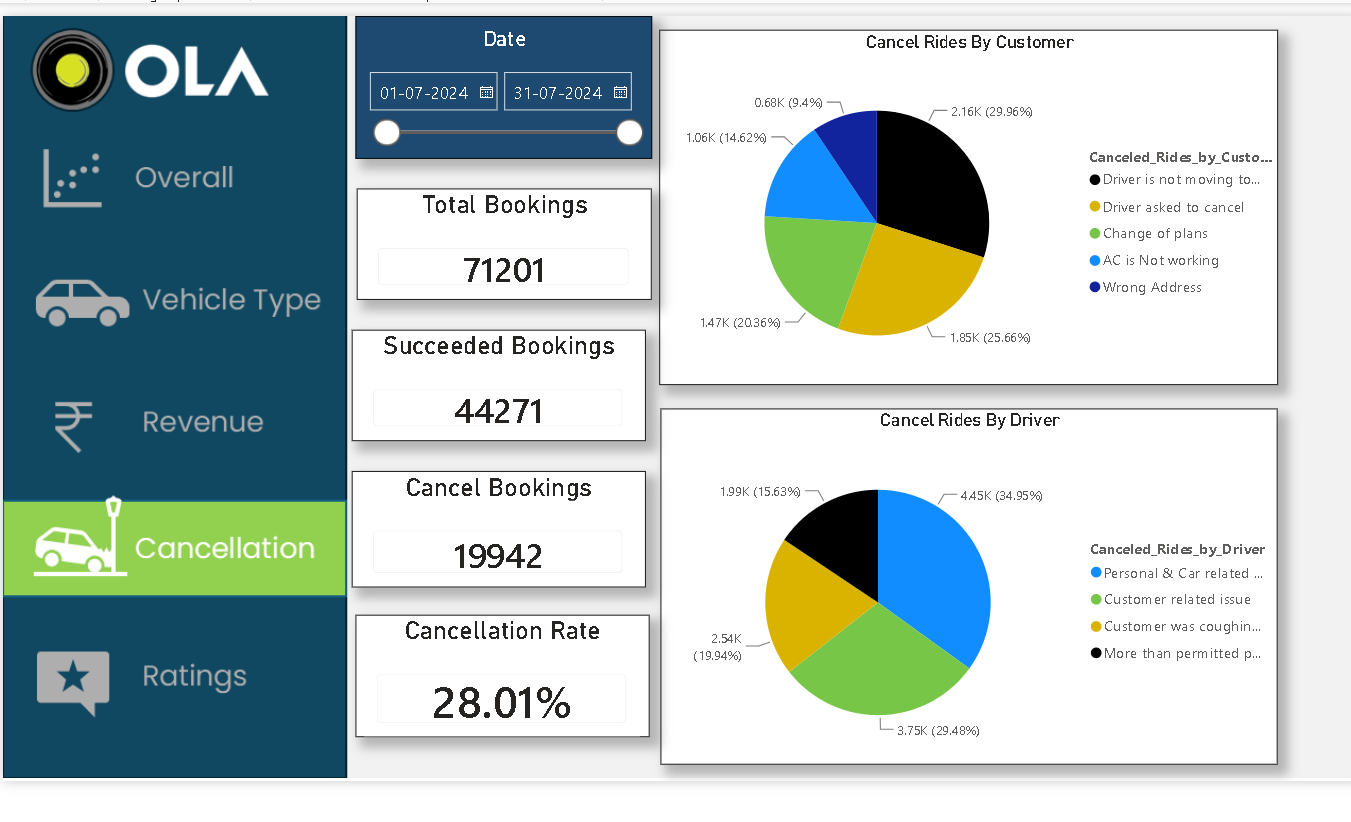

This screenshot's page, from the dashboard's own definition file:
{"tool":"powerbi","page":{"name":"Cancellation","canvas":[1280,720],"ordinal":3},"visuals":[{"type":"pieChart","title":"Cancel Rides By Customer","fields":{"Category":["bookings_cleaned.Canceled_Rides_by_Customer"],"Y":["CountNonNull(bookings_cleaned.Canceled_Rides_by_Customer)"]},"box":[617.6,12.9,582.4,334.1],"z":0},{"type":"pieChart","title":"Cancel Rides By Driver","fields":{"Y":["CountNonNull(bookings_cleaned.Canceled_Rides_by_Driver)"],"Category":["bookings_cleaned.Canceled_Rides_by_Driver"]},"box":[618.8,369.4,581.2,335.3],"z":1000},{"type":"cardVisual","title":"Total Bookings","fields":{"Data":["CountNonNull(bookings_cleaned.Booking_ID)"]},"box":[332.9,162.4,277.6,104.7],"z":2000},{"type":"cardVisual","title":"Succeeded Bookings","fields":{"Data":["CountNonNull(bookings_cleaned.Booking_ID)"]},"box":[328.2,295.3,276.5,104.7],"z":3000},{"type":"cardVisual","title":"Cancel Bookings","fields":{"Data":["CountNonNull(bookings_cleaned.Booking_ID)"]},"box":[328.2,428.2,276.5,109.4],"z":4000},{"type":"cardVisual","title":"Cancellation Rate","fields":{"Data":["bookings_cleaned.CanceledPercentage"]},"box":[331.8,563.5,276.5,115.3],"z":5000},{"type":"slicer","title":"Date","fields":{"Values":["bookings_cleaned.Date"]},"box":[331.8,0,279.5,134.6],"z":6000},{"type":"actionButton","box":[0,105,324.3,107],"z":6001},{"type":"actionButton","box":[0,195.3,324.3,107],"z":6002},{"type":"actionButton","box":[0,329.4,324.3,107],"z":6003},{"type":"actionButton","box":[0,580.9,324.3,107],"z":6004}]}

Visuals, with their boxes on the page's 1280x720 design canvas (x1, y1, x2, y2). These are canvas units, not pixel positions in the 1351x822 screenshot, which may show the page scaled, cropped or inside an application window:
"Cancel Rides By Customer" pieChart: pyautogui.locateOnScreen(618, 13, 1200, 347)
"Cancel Rides By Driver" pieChart: pyautogui.locateOnScreen(619, 369, 1200, 705)
"Total Bookings" cardVisual: pyautogui.locateOnScreen(333, 162, 610, 267)
"Succeeded Bookings" cardVisual: pyautogui.locateOnScreen(328, 295, 605, 400)
"Cancel Bookings" cardVisual: pyautogui.locateOnScreen(328, 428, 605, 538)
"Cancellation Rate" cardVisual: pyautogui.locateOnScreen(332, 564, 608, 679)
"Date" slicer: pyautogui.locateOnScreen(332, 0, 611, 135)
actionButton: pyautogui.locateOnScreen(0, 105, 324, 212)
actionButton: pyautogui.locateOnScreen(0, 195, 324, 302)
actionButton: pyautogui.locateOnScreen(0, 329, 324, 436)
actionButton: pyautogui.locateOnScreen(0, 581, 324, 688)
